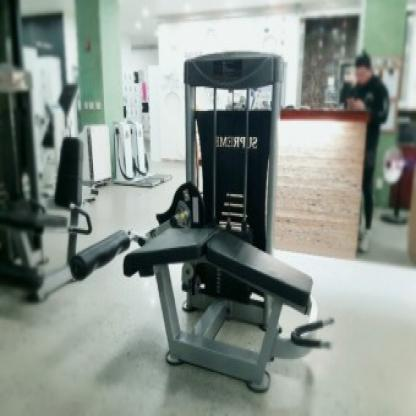reg curl machine: (68, 47, 338, 400)
